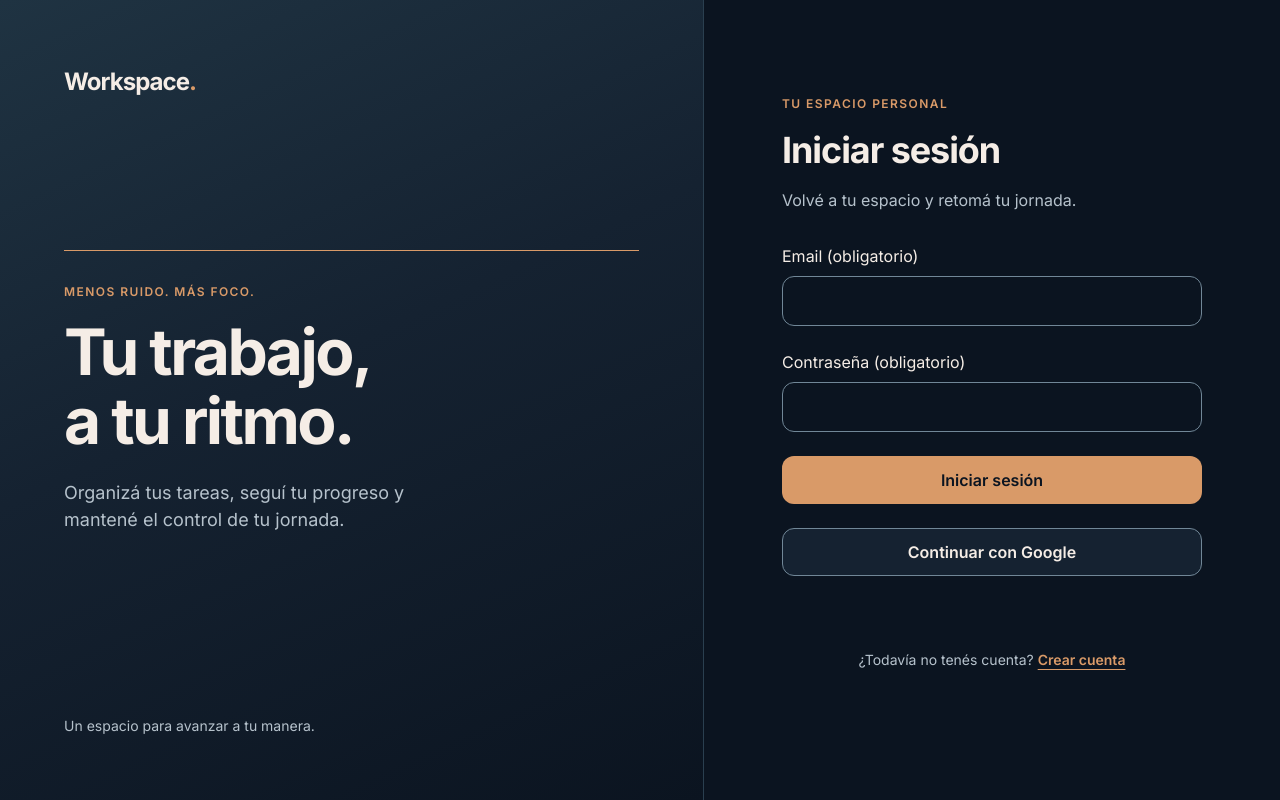
Scenario: Sesión y rutas › explica auth/popup-closed-by-user y vuelve a habilitar ambos métodos
Step 1. Click the button "Continuar con Google" → (992, 552), box [782,528,1202,576]
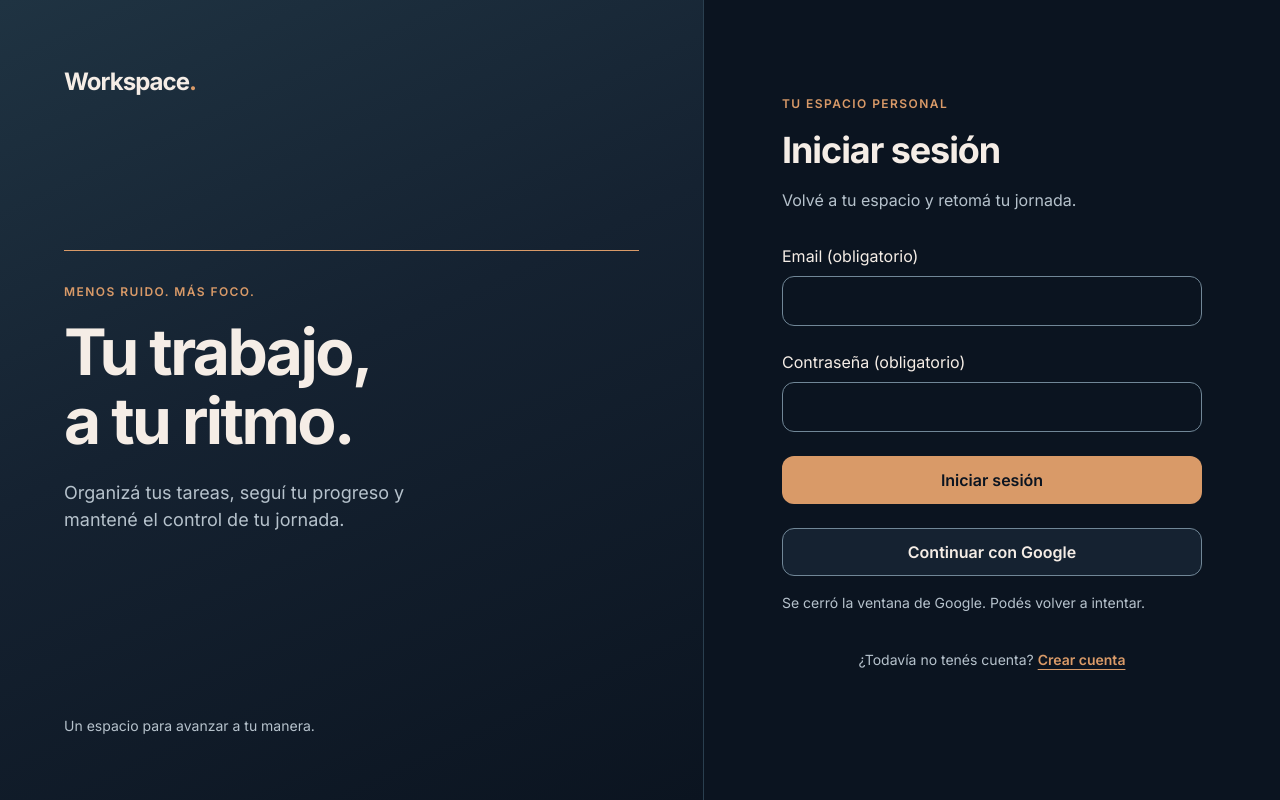
Check: the message does not show "auth/popup-closed-by-user", box [782,592,1202,613]
Check: the message shows "Se cerró la ventana de Google", box [782,594,1145,611]
